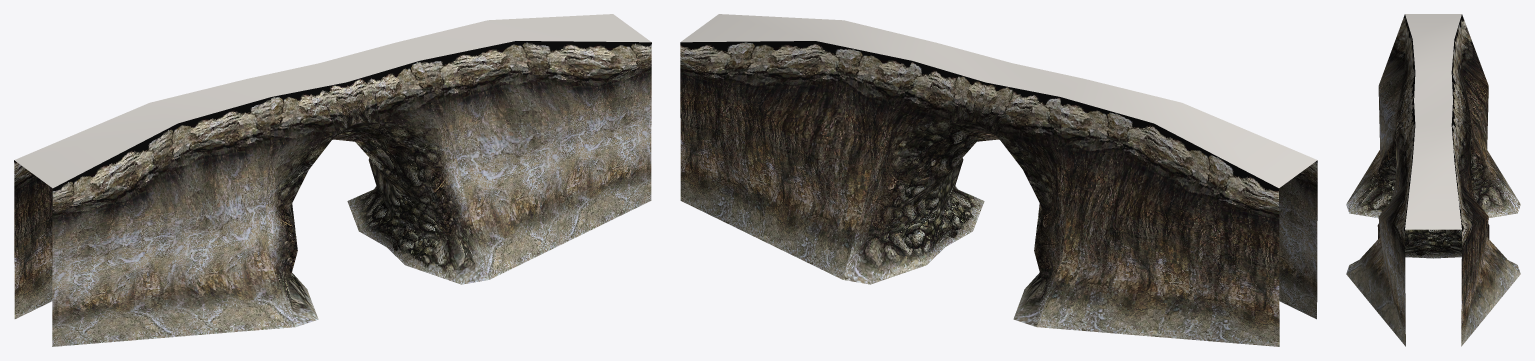
Rendered from idle.glb.
3 renders of one model, left to right at view 1: azimuth 30°, elevation 25°; view 2: azimuth 150°, elevation 25°; view 3: azimuth 270°, elevation 25°, orthographic. The views are drawn at different scales.
Parts seen in each view (by area): view 1: MeshRoot; view 2: MeshRoot; view 3: MeshRoot.
Part boxes in pixels (x1=…): MeshRoot: x1=14, y1=14, x2=651, y2=346; MeshRoot: x1=680, y1=14, x2=1317, y2=346; MeshRoot: x1=1346, y1=14, x2=1520, y2=346.
Bounding box in the file's own units: 41.38 × 12.56 × 14.16.
Materials: 4 (3 with a texture image).
